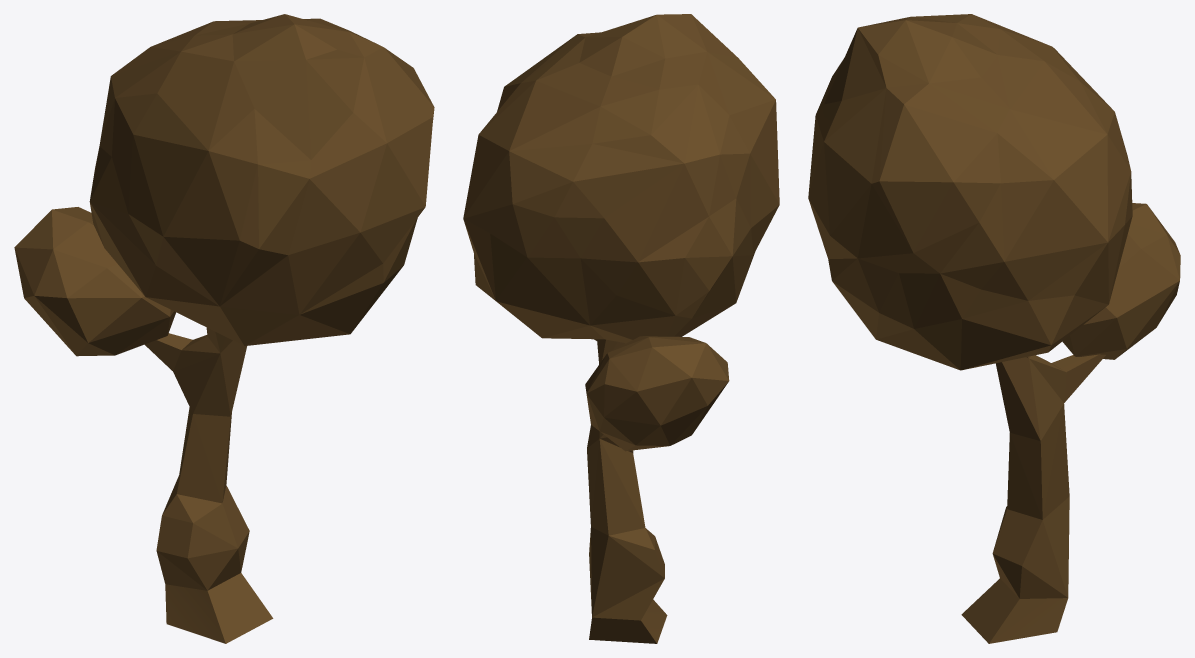
File: Small_Tree_01.fbx
3 renders of one model, left to right at view 1: azimuth 30°, elevation 25°; view 2: azimuth 150°, elevation 25°; view 3: azimuth 270°, elevation 25°, orthographic. The views are drawn at different scales.
Parts seen in each view (by area): view 1: Tree1; view 2: Tree1; view 3: Tree1.
Part boxes in pixels (x1,y1,x2,y2): Tree1: [14, 14, 434, 643]; Tree1: [463, 14, 779, 643]; Tree1: [808, 14, 1180, 643].
Bounding box in the file's own units: 1312 × 2519 × 1386.
